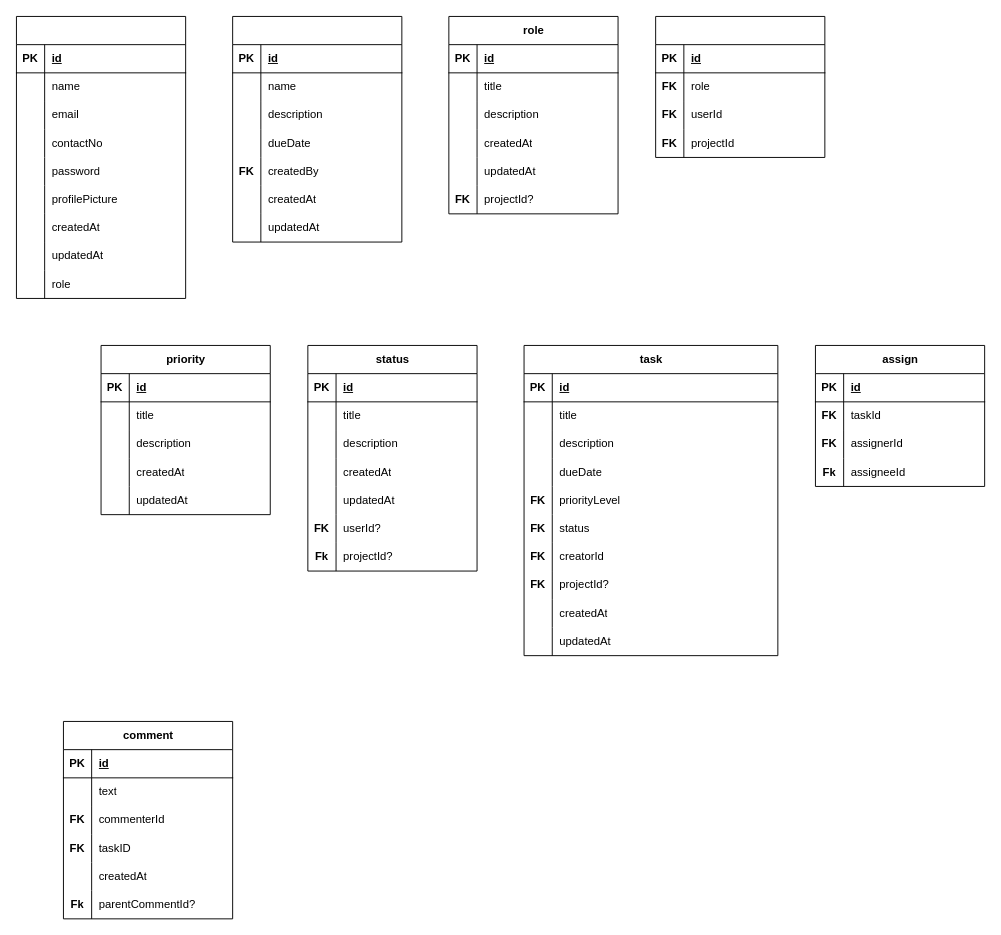
This 1001x935 diagram has some shape labels left out. The shapes that lost their labels are listed below. From the top down, each one's box as (x1, y1, x2, y2) in pixels, then its label:
(655, 16, 825, 157): team
(232, 16, 402, 242): project
(16, 16, 186, 298): user
